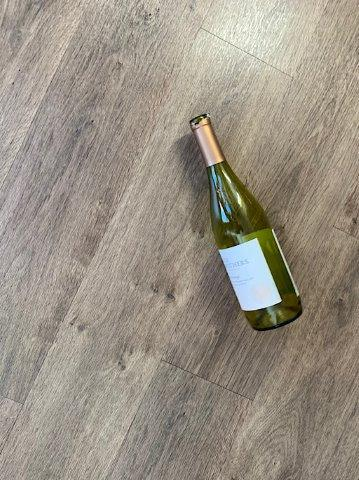botolkaca: (190, 114, 304, 331)
